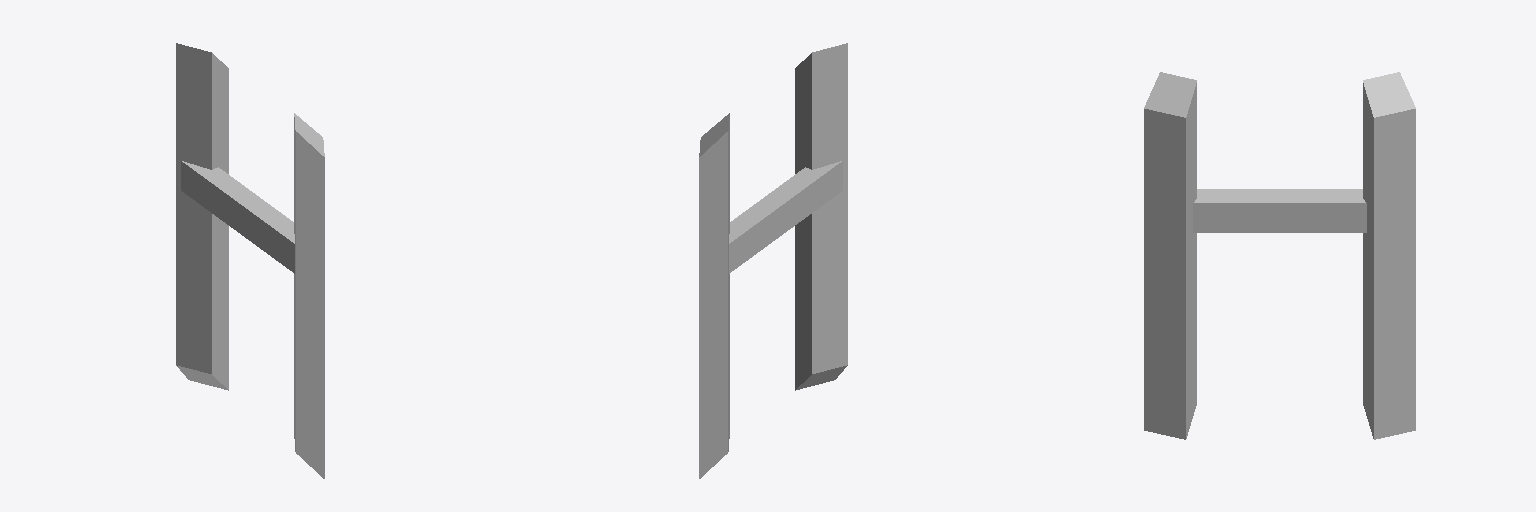
File: rail02.obj
The picture shows the model from 3 angles: view 1: azimuth 30°, elevation 25°; view 2: azimuth 150°, elevation 25°; view 3: azimuth 270°, elevation 25°; orthographic projection.
Parts seen in each view (by area): view 1: Cylinder.001; view 2: Cylinder.001; view 3: Cylinder.001.
Part boxes in pixels (x1,y1,x2,y2): Cylinder.001: (176, 43, 324, 478); Cylinder.001: (699, 43, 847, 478); Cylinder.001: (1144, 72, 1415, 439).
Size of the model in its own units: 0.2696 by 2.2 by 1.56.